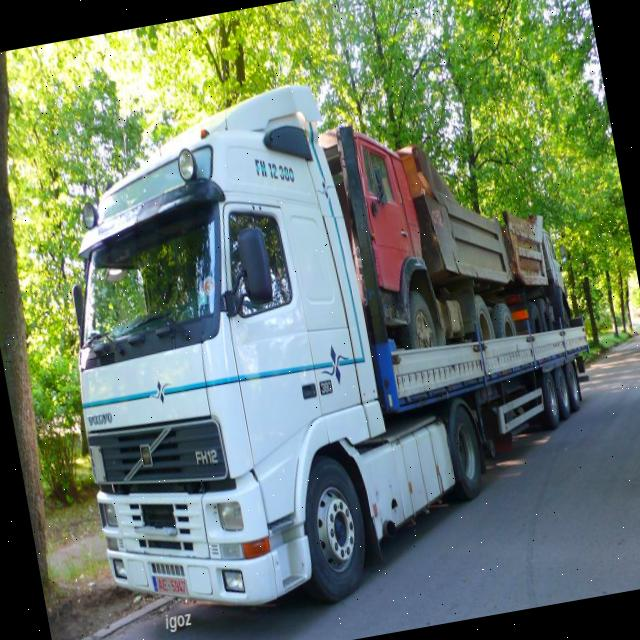License-plate: (149, 568, 188, 602)
